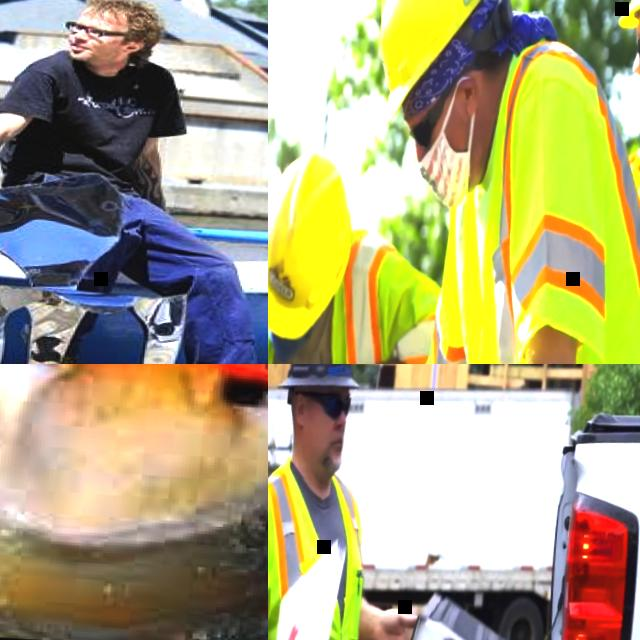Hardhat: (268, 150, 360, 343), (370, 0, 495, 129), (278, 364, 364, 392)
Mask: (413, 72, 481, 214), (268, 331, 312, 364)
NO-Hardhat: (81, 0, 162, 30)
NO-Mask: (302, 426, 346, 472), (67, 36, 128, 64)
NO-Safety Vest: (12, 45, 174, 185)
Person: (343, 0, 640, 364), (0, 0, 268, 364), (268, 364, 441, 640), (268, 139, 451, 364), (586, 0, 640, 364)
Safety Vest: (418, 31, 640, 364), (268, 218, 443, 364), (268, 454, 387, 640), (608, 97, 640, 364)
vehicle: (391, 390, 640, 640)
